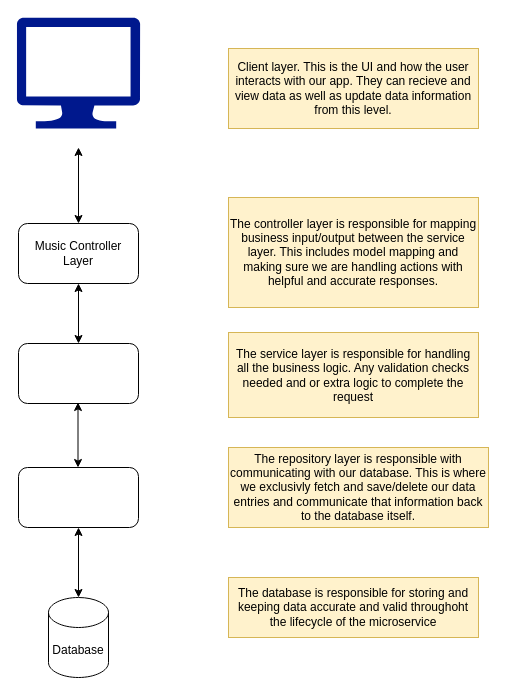
Image size: 507x695. Some labels were removed from this diagram. The box of each missing label's shape, as (x1, y1, x2, y2) in pixels:
Client: (16, 17, 140, 128)
Music Repository Layer: (18, 466, 138, 528)
Music Service Layer: (18, 342, 138, 404)
